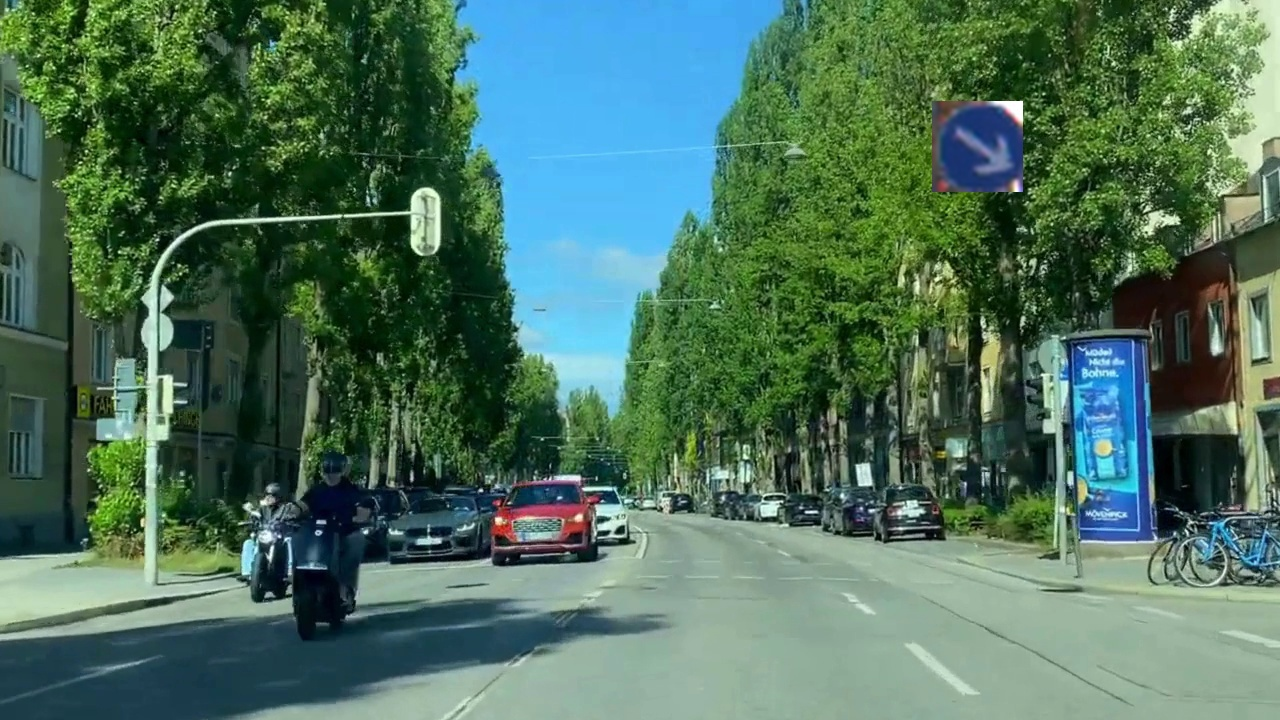Keep right: (932, 101, 1023, 192)
